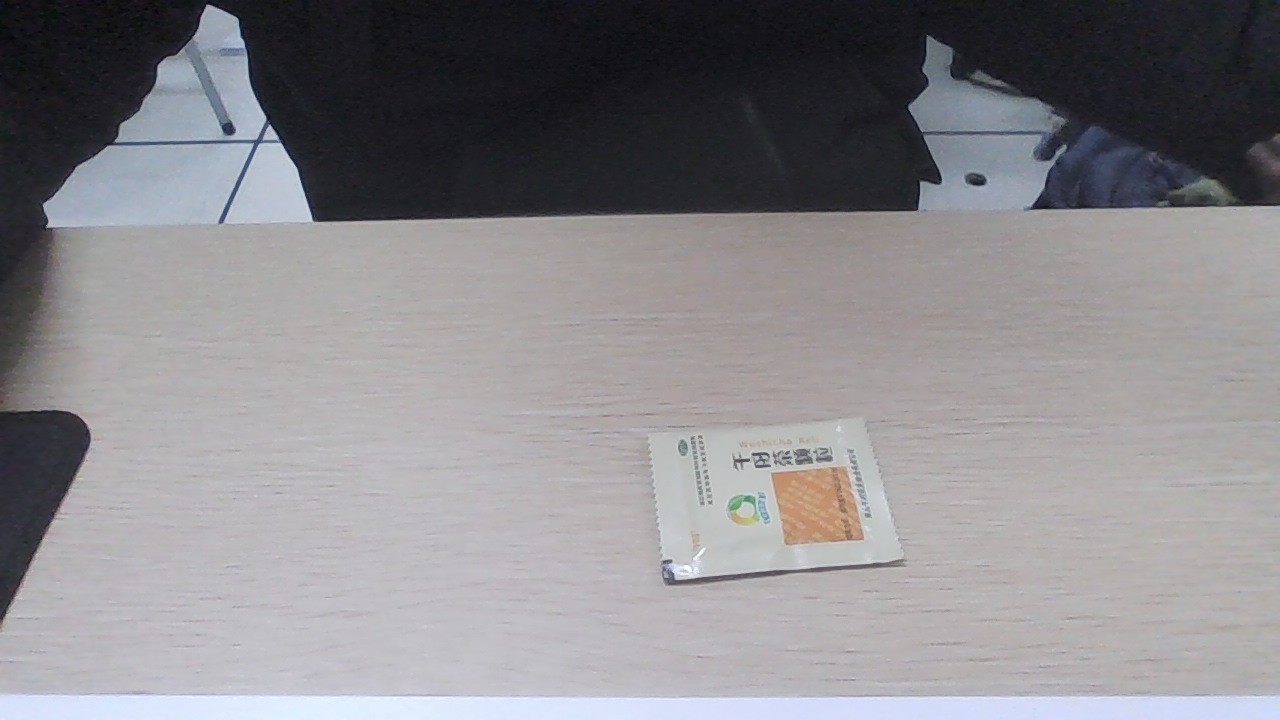YH-yellow medicine: (642, 422, 895, 573)
